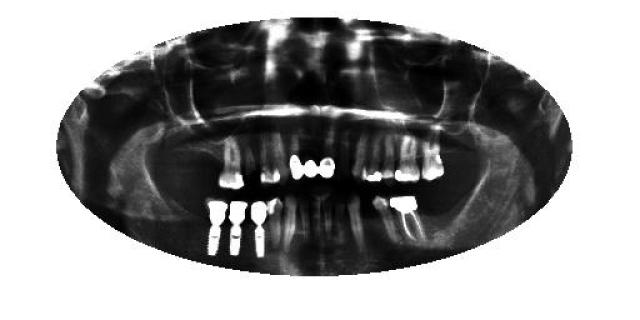Cavity: (244, 141, 258, 181)
Fillings: (218, 135, 244, 191), (396, 131, 420, 184), (423, 134, 445, 182), (319, 121, 336, 180), (366, 132, 384, 184), (268, 196, 284, 250), (288, 131, 304, 181), (304, 156, 318, 180)
Implant: (389, 194, 429, 242), (204, 198, 228, 258), (226, 196, 246, 258), (248, 200, 268, 260)
